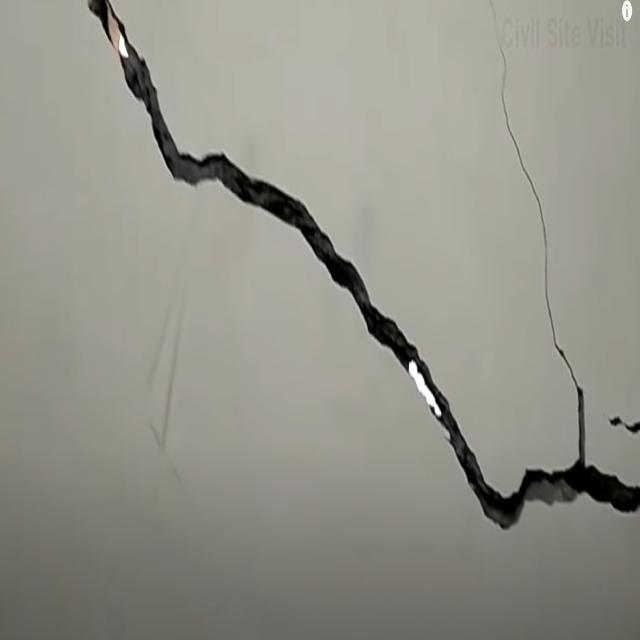Wall_Cracks: (57, 0, 640, 574)
